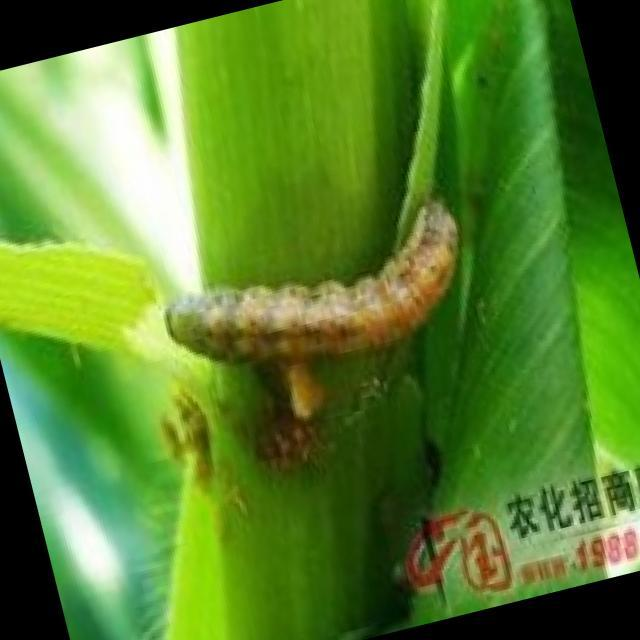Plaga: (145, 185, 491, 417)
